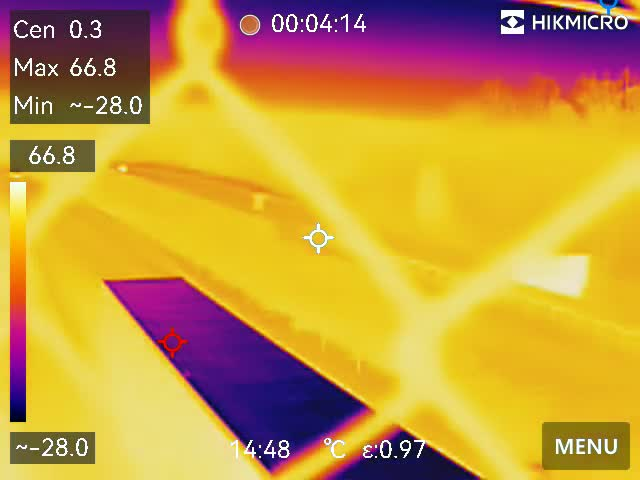heavyTruck: (99, 271, 500, 480)
